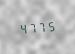five: (45, 19, 53, 32)
four: (18, 21, 26, 34)
seven: (27, 20, 35, 34), (36, 20, 44, 33)
